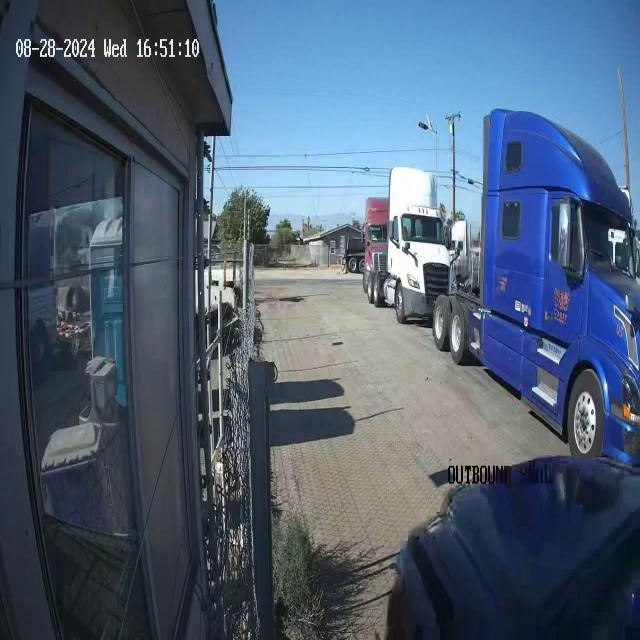TRUCK_IN: (432, 75, 639, 466), (363, 159, 452, 329)
